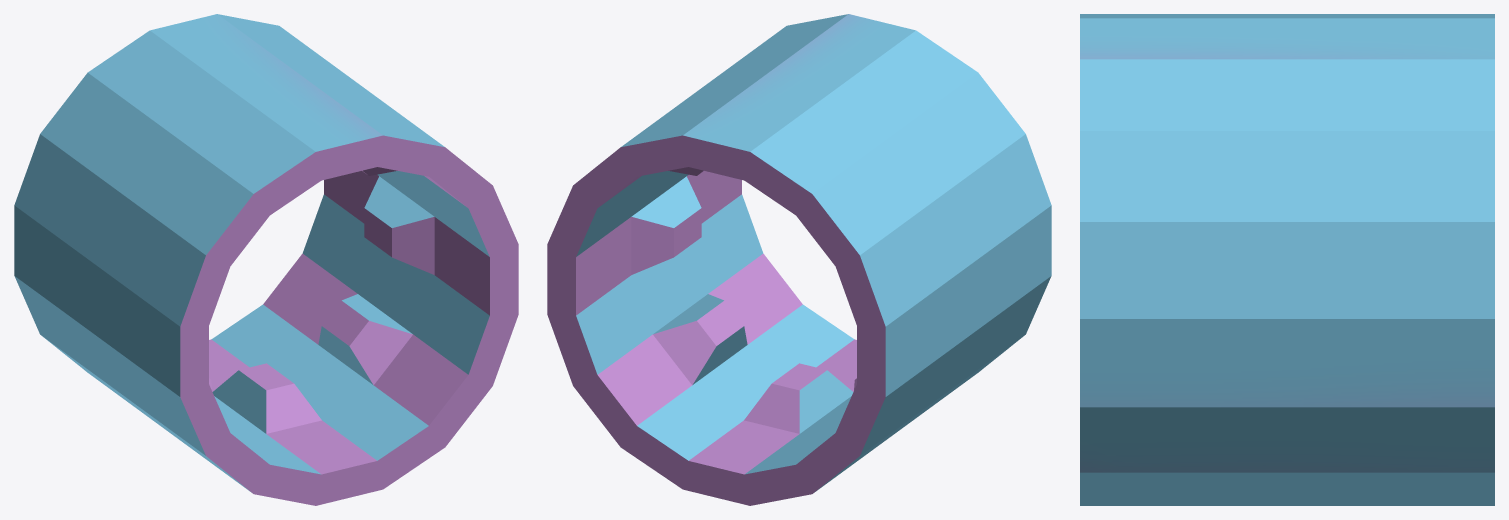
The model's file is Tonnel_Small_Borders_2.fbx.
The picture shows the model from 3 angles, left to right: view 1: azimuth 30°, elevation 25°; view 2: azimuth 150°, elevation 25°; view 3: azimuth 270°, elevation 25°; orthographic projection. The views are drawn at different scales.
Visible parts, largest first — view 1: Tonnel_Small_Borders_2; view 2: Tonnel_Small_Borders_2; view 3: Tonnel_Small_Borders_2.
Boxes of the visible parts, x1=… form: Tonnel_Small_Borders_2: x1=14, y1=14, x2=518, y2=505; Tonnel_Small_Borders_2: x1=547, y1=14, x2=1051, y2=505; Tonnel_Small_Borders_2: x1=1080, y1=14, x2=1494, y2=505.
Size of the model in its own units: 2354 by 2354 by 2000.
1 material, 1 textured.
